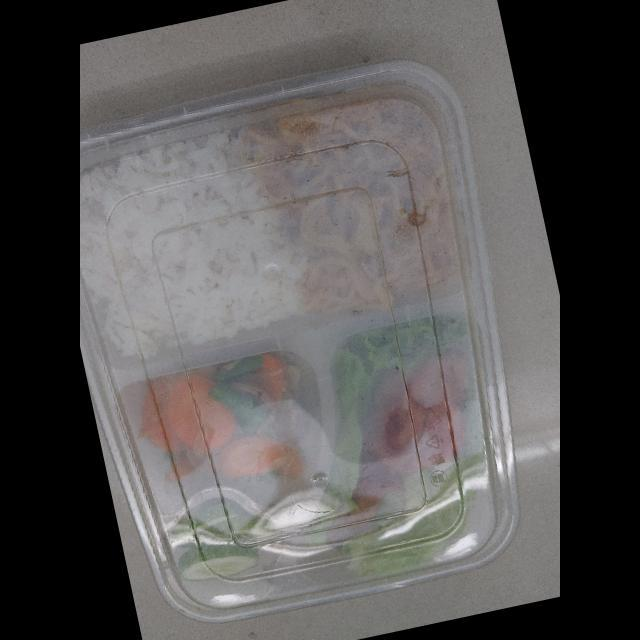bento: (80, 44, 527, 625)
